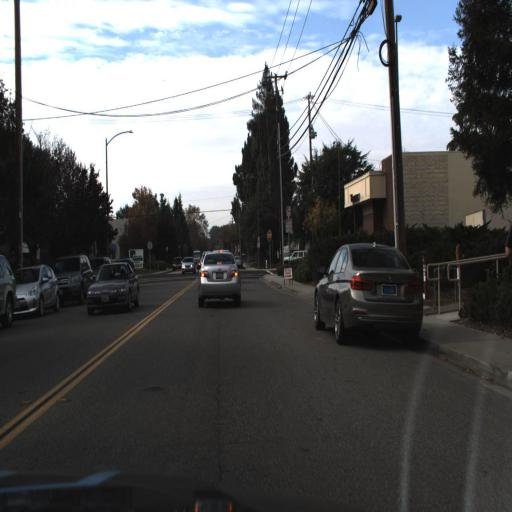car: (314, 240, 428, 340), (8, 264, 59, 320), (88, 259, 139, 314), (198, 244, 244, 304), (56, 254, 91, 302), (58, 250, 89, 302), (0, 248, 15, 332)
